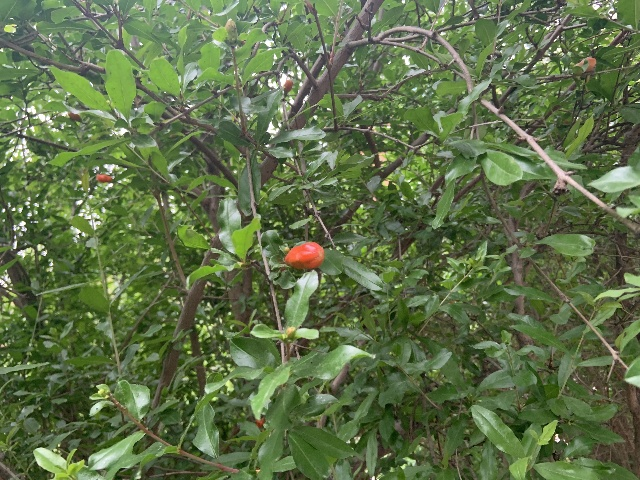bud: (284, 242, 324, 270), (574, 56, 596, 72), (283, 79, 293, 92), (96, 174, 112, 182), (67, 112, 80, 121)
